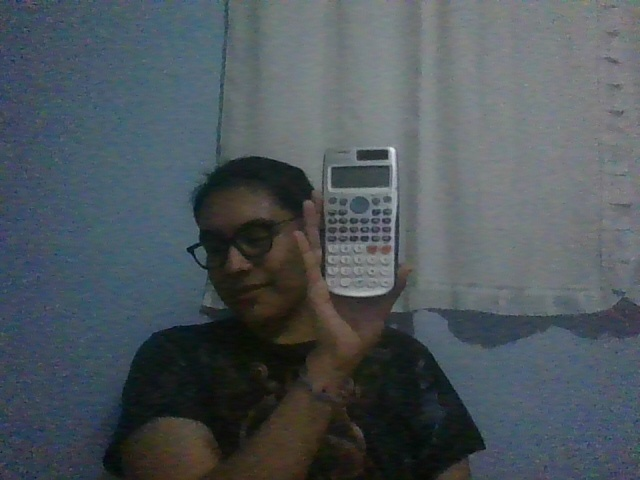calculadora: (322, 146, 400, 298)
